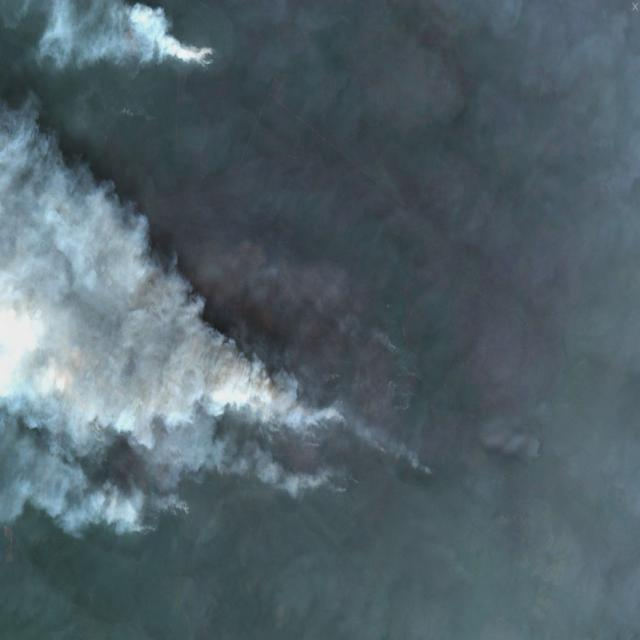fire: (14, 215, 467, 578), (182, 36, 228, 77)
